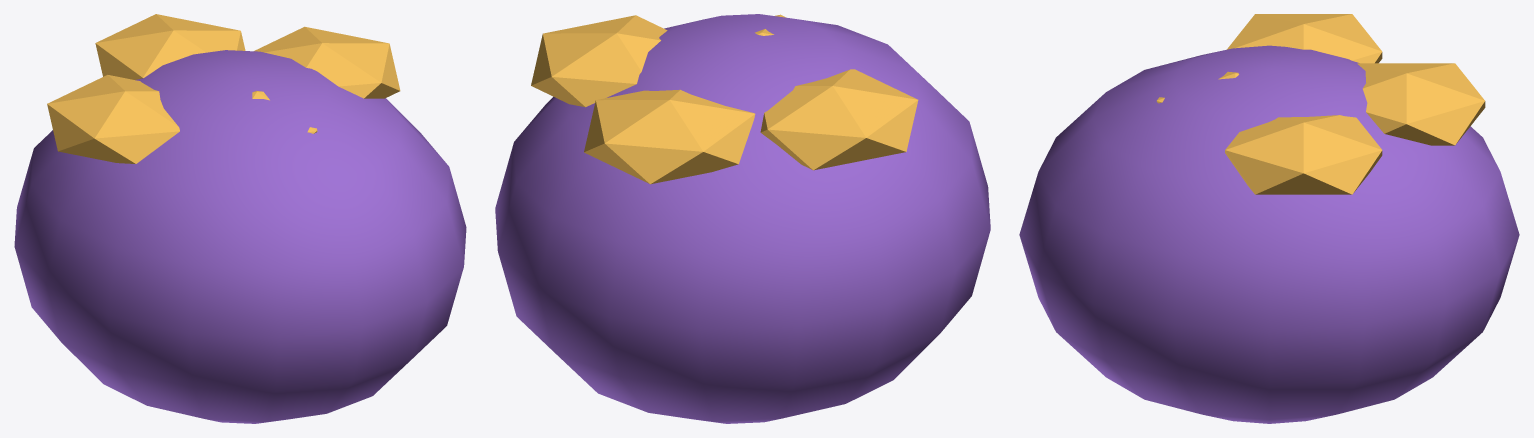
Rendered from shell.glb.
The picture shows the model from 3 angles, left to right: view 1: azimuth 30°, elevation 25°; view 2: azimuth 150°, elevation 25°; view 3: azimuth 270°, elevation 25°; orthographic projection. The views are drawn at different scales.
Parts seen in each view (by area): view 1: Shell, Shell plate.001, Shell plate.003, Shell plate.002; view 2: Shell, Shell plate.003, Shell plate.001, Shell plate.002; view 3: Shell, Shell plate.002, Shell plate.003, Shell plate.001.
Boxes of the visible parts, box(x1,y1,x2,y2) form: Shell: box(14, 50, 466, 423); Shell plate.001: box(47, 75, 179, 163); Shell plate.003: box(95, 14, 245, 79); Shell plate.002: box(254, 26, 400, 98); Shell: box(495, 14, 990, 423); Shell plate.003: box(584, 89, 755, 184); Shell plate.001: box(760, 69, 918, 170); Shell plate.002: box(531, 15, 667, 107); Shell: box(1019, 45, 1519, 423); Shell plate.002: box(1225, 115, 1382, 194); Shell plate.003: box(1357, 63, 1485, 145); Shell plate.001: box(1227, 14, 1382, 63).
Bounding box in the file's own units: 1.34 × 1.06 × 1.46.
